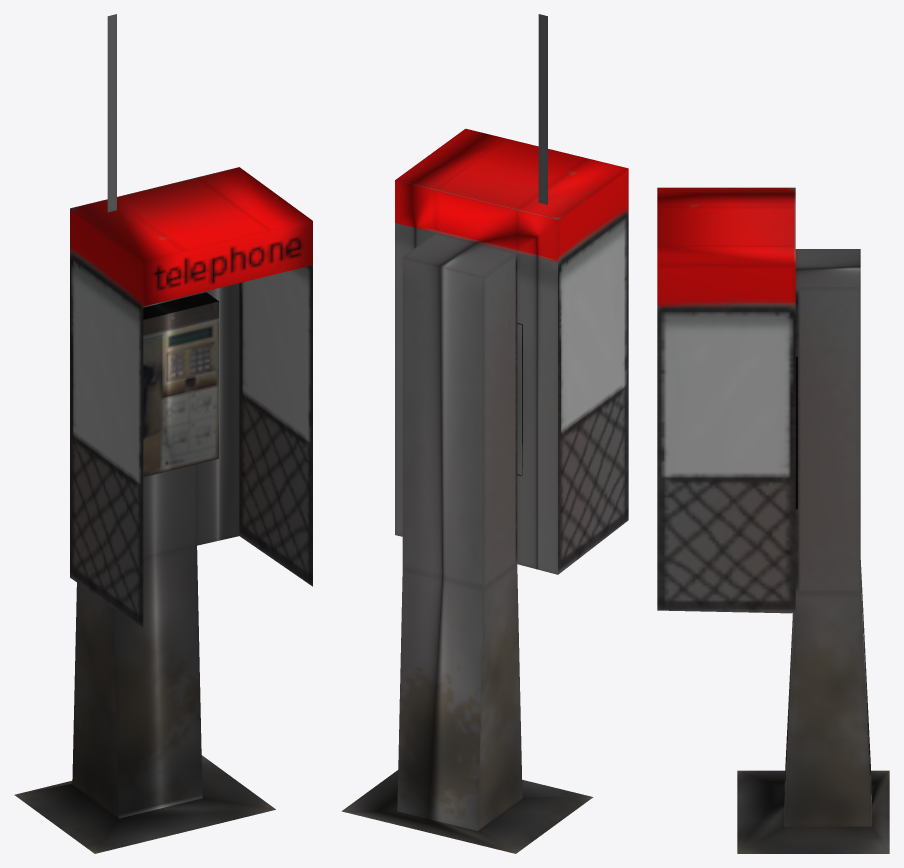
Rendered from phonebooth.glb.
The picture shows the model from 3 angles, left to right: view 1: azimuth 30°, elevation 25°; view 2: azimuth 150°, elevation 25°; view 3: azimuth 270°, elevation 25°; orthographic projection. The views are drawn at different scales.
Visible parts, largest first — view 1: Plane.001; view 2: Plane.001; view 3: Plane.001.
Boxes of the visible parts, x1=… form: Plane.001: x1=14, y1=14, x2=312, y2=853; Plane.001: x1=341, y1=14, x2=628, y2=853; Plane.001: x1=657, y1=187, x2=889, y2=853.
Bounding box in the file's own units: 0.4281 × 1.84 × 0.5033.
Materials: 1 (1 with a texture image).
